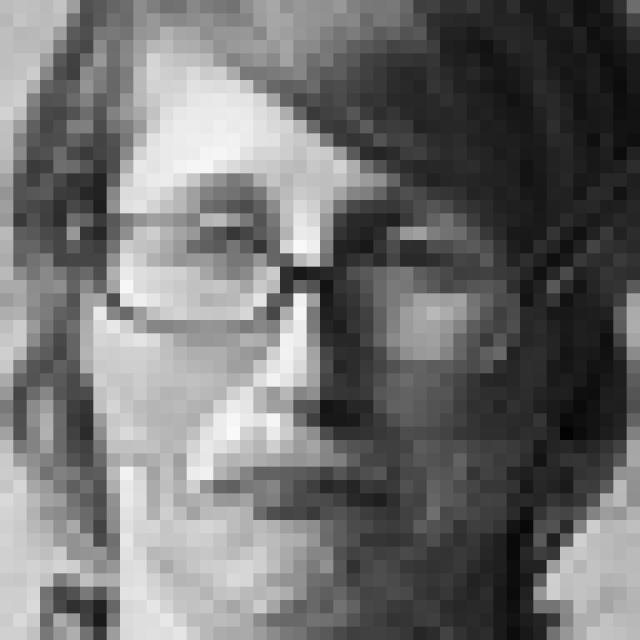disgust: (139, 172, 484, 538)
